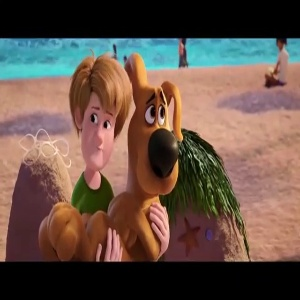Scooby: (135, 75, 188, 193)
Shagy: (71, 58, 131, 175)
